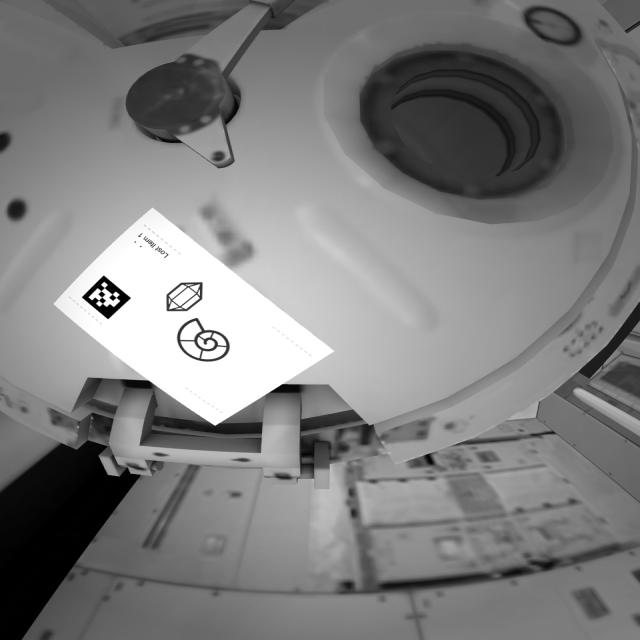crystal: (158, 276, 219, 323)
fossil: (170, 315, 245, 371)
